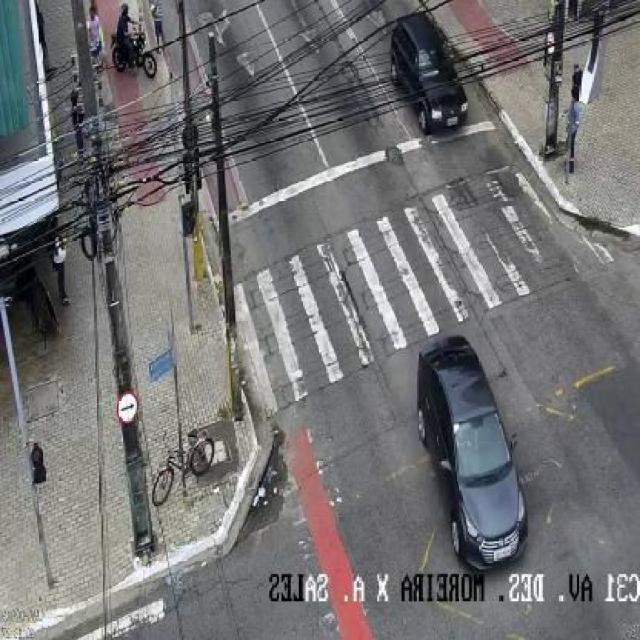Car: (414, 330, 530, 578), (392, 13, 472, 132)
